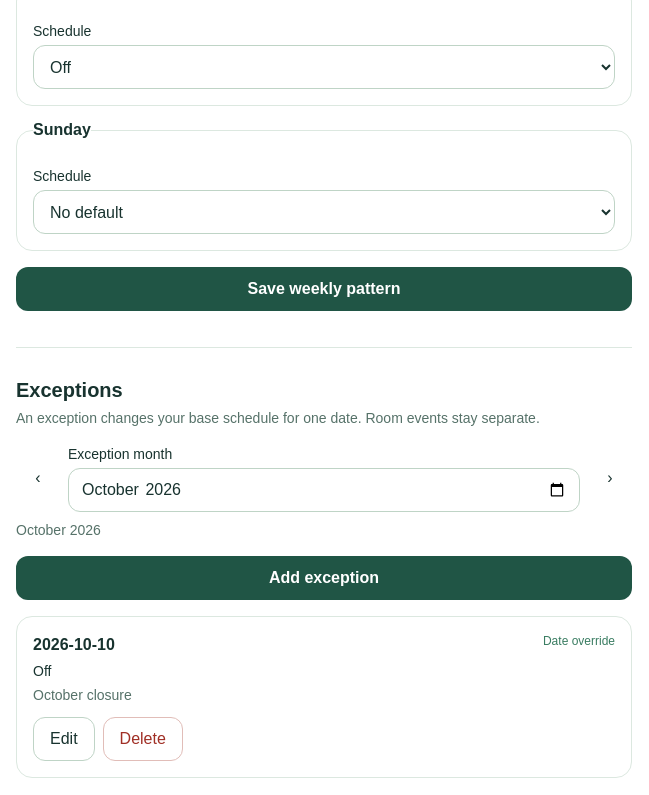
it: personal work calendar editor › shows only exceptions for the selected month while navigating
(page scrolled)
Check: the text "October closure" is shown, box [33,685,132,705]
Step 1. Click the button named "Next exception month" → [610, 478], box [588,456,632,500]
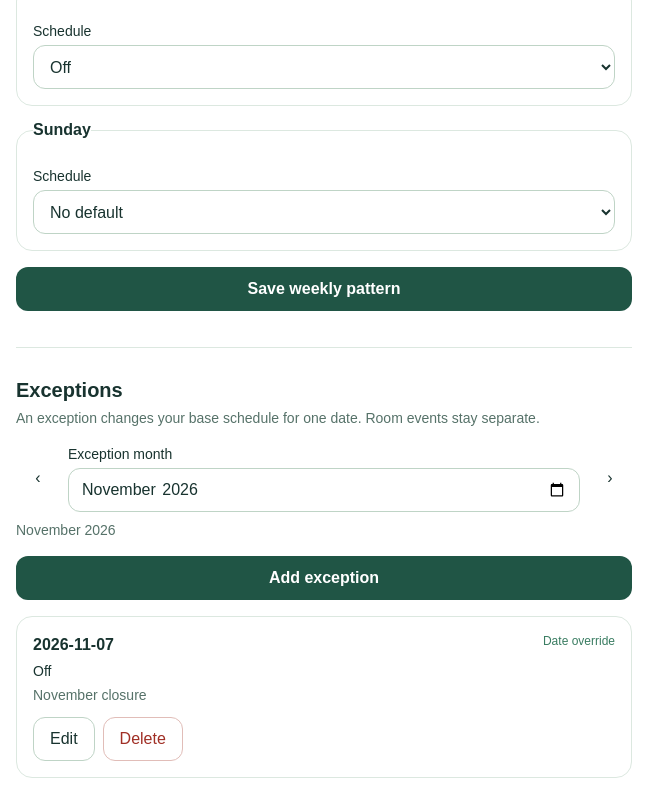
Check: the text "October closure" is gone
Check: the text "November closure" is shown, box [33,685,147,705]
